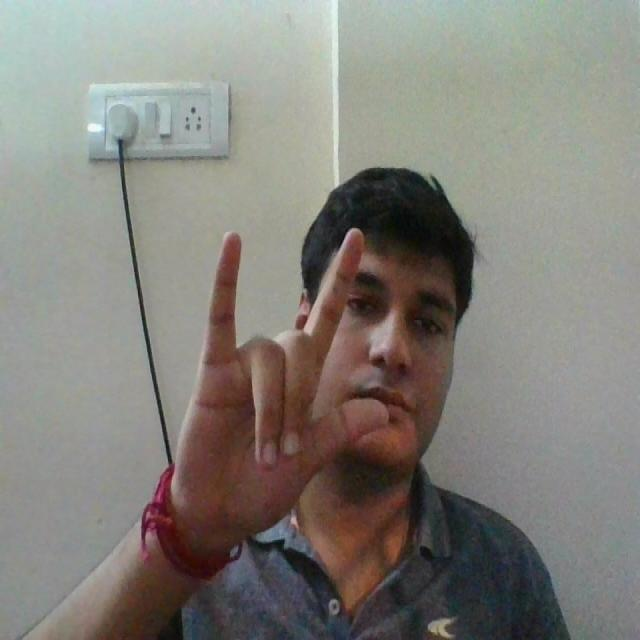I love you: (180, 221, 387, 569)
